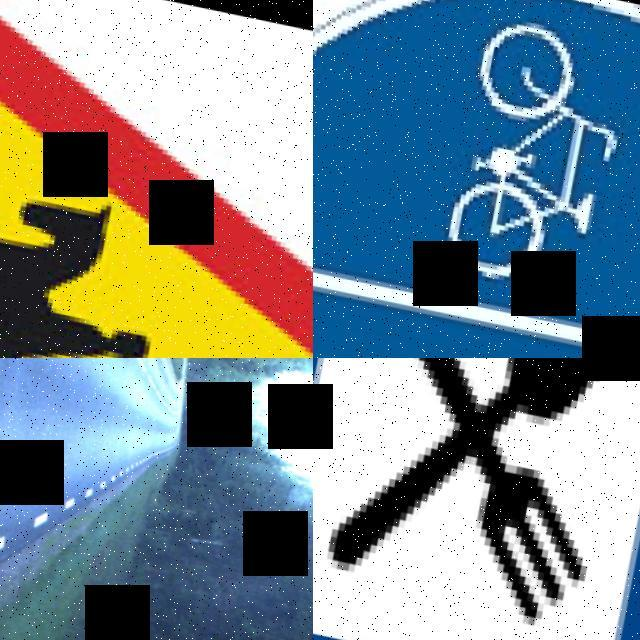154: (0, 0, 313, 358)
99: (313, 0, 640, 358)
Restaurant: (313, 358, 640, 640)
